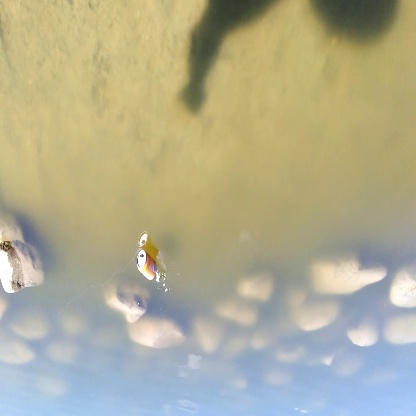bottle: (132, 248, 164, 283)
